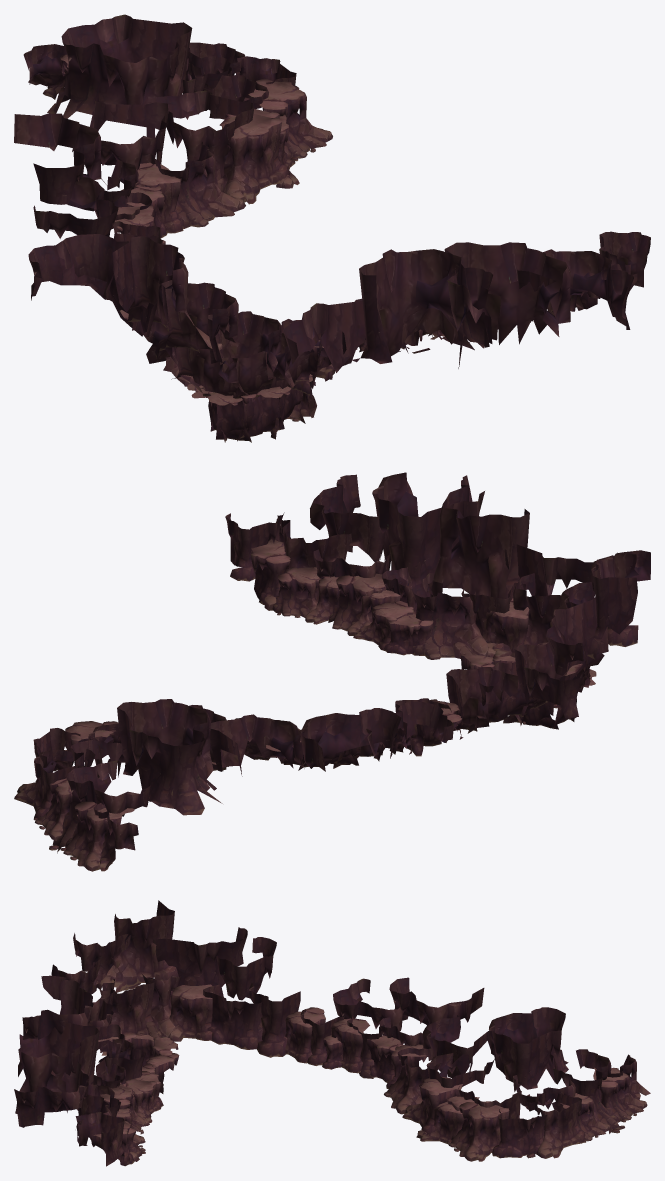
The model's file is area16_shiqiang_02.FBX.
3 views of the same model, one above another, from view 1: azimuth 30°, elevation 25°; view 2: azimuth 150°, elevation 25°; view 3: azimuth 270°, elevation 25° (orthographic). The views are drawn at different scales.
Visible parts, largest first — view 1: area16_shiqiang_02; view 2: area16_shiqiang_02; view 3: area16_shiqiang_02.
Boxes of the visible parts, box(x1,y1,x2,y2) form: area16_shiqiang_02: box(14, 14, 650, 442); area16_shiqiang_02: box(14, 472, 650, 871); area16_shiqiang_02: box(14, 900, 650, 1166).
Size of the model in its own units: 9815 by 3623 by 14674.
